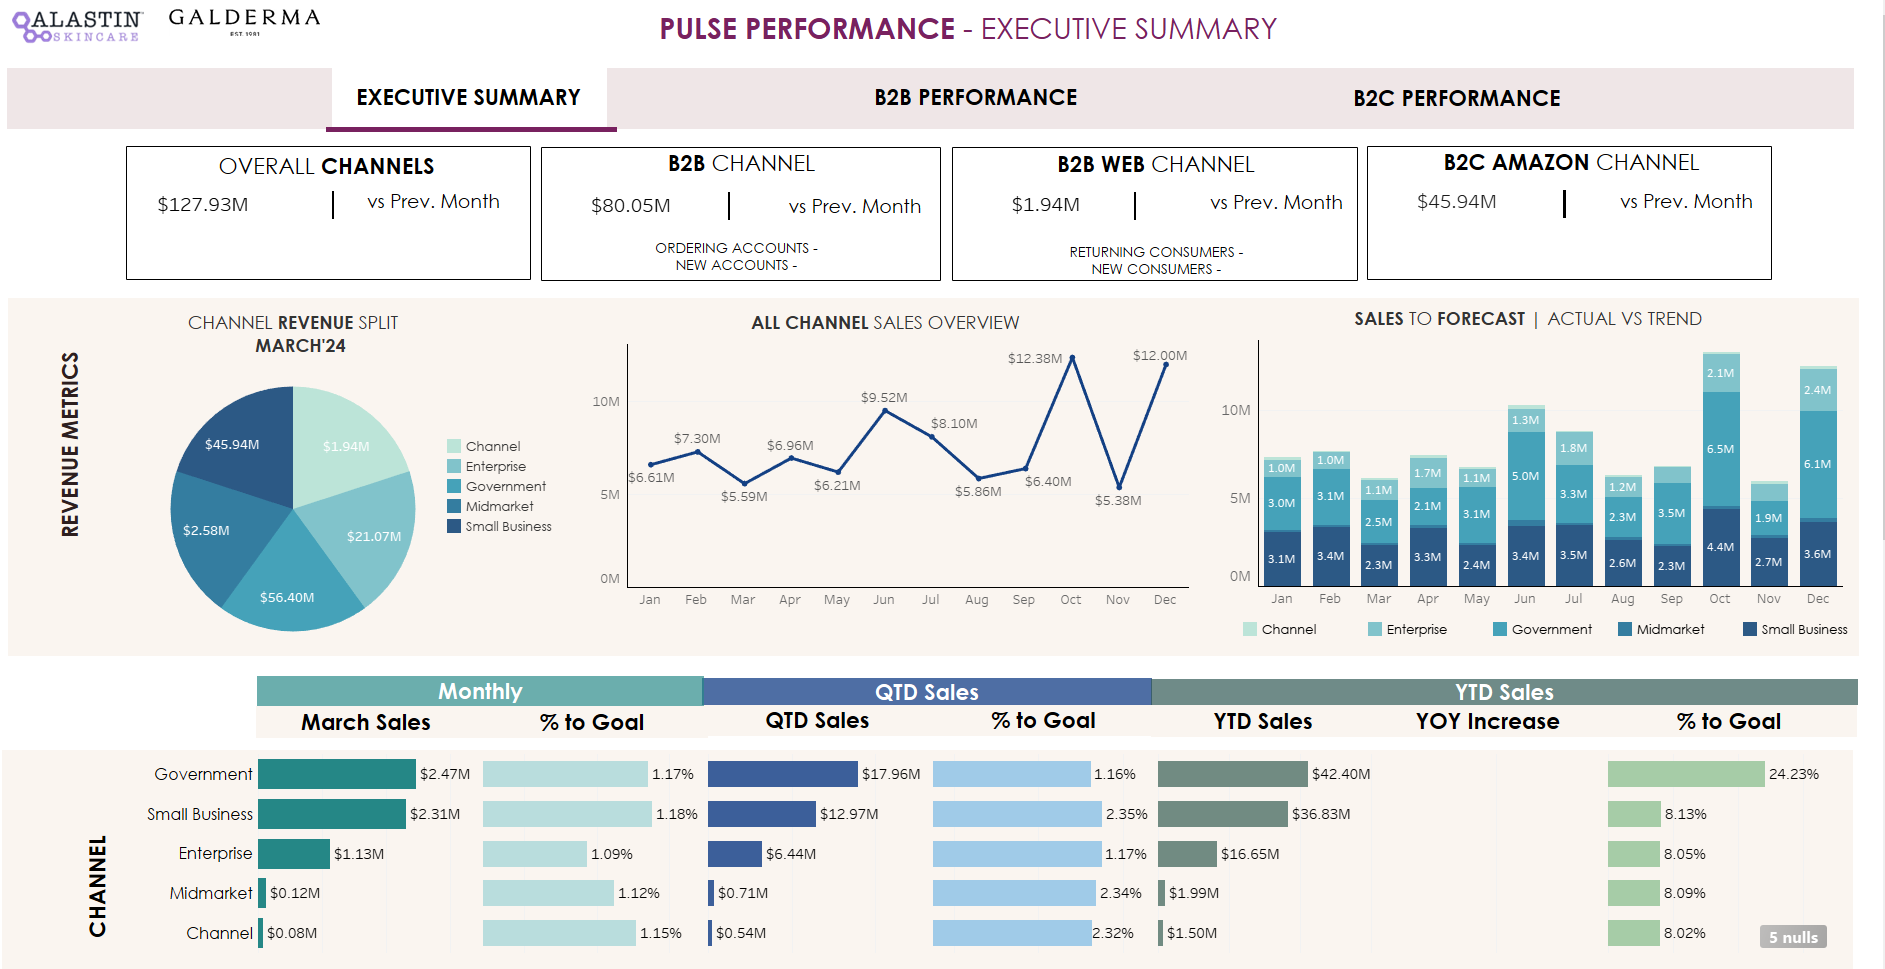

The dashboard page shown, as its layout file describes it:
{"tool":"tableau","page":{"name":"Executive summary ","canvas":[1850,2000],"ordinal":4},"visuals":[{"type":"text","box":[555,7,813,53]},{"type":"image","param":"Image/Alastin logo.png","box":[5,9,148,52]},{"type":"image","param":"Image/galderma logo.jpg","box":[162,14,151,53]},{"type":"dashboard-object","box":[325,72,275,60]},{"type":"blank","box":[0,73,1847,61]},{"type":"dashboard-object","box":[839,73,261,58]},{"type":"dashboard-object","box":[1331,73,245,59]},{"type":"blank","box":[319,132,291,5]},{"type":"blank","box":[119,151,405,134]},{"type":"blank","box":[1360,151,405,134]},{"type":"blank","box":[534,152,400,134]},{"type":"text","box":[546,152,377,31]},{"type":"blank","box":[945,152,406,134]},{"type":"text","box":[1395,153,339,28]},{"type":"text","box":[124,154,391,33]},{"type":"text","box":[954,154,390,30]},{"type":"worksheet","title":"B2C AMAZON CHANNEL","mark":"Automatic","box":[1343,175,214,62]},{"type":"worksheet","title":"OVERALL CHANNELS","mark":"Automatic","box":[103,181,186,55]},{"type":"text","box":[334,187,185,39]},{"type":"text","box":[1568,187,223,38]},{"type":"worksheet","title":"b2b channel","mark":"Automatic","box":[525,189,198,42]},{"type":"text","box":[1174,189,191,37]},{"type":"worksheet","title":"B2C WEB CHANNEL","mark":"Automatic","box":[911,190,256,38]},{"type":"blank","box":[1556,195,3,28]},{"type":"blank","box":[325,196,2,28]},{"type":"blank","box":[721,197,2,28]},{"type":"text","box":[751,197,194,28]},{"type":"blank","box":[1127,197,2,28]},{"type":"text","box":[628,236,203,51]},{"type":"text","box":[1021,244,257,44]},{"type":"text","box":[49,276,44,350]},{"type":"blank","box":[1,303,1851,358]},{"type":"worksheet","title":"SALES TO FORECAST | ACTUAL VS TREND","mark":"Bar","rows":["Gross Sales"],"cols":["Calculation_1133781227098951680"],"box":[1207,308,629,310]},{"type":"worksheet","title":"sales overview ","mark":"Line","rows":["Sales"],"cols":["Calculation_1133781227098951680"],"box":[580,312,602,303]},{"type":"legend","title":"revenue metrics","param":"[federated.1y4mrft0pfnlwe1bmkxz20d299ct].[none:Segment:nk]","box":[437,441,146,113]},{"type":"text","box":[246,677,455,38]},{"type":"text","box":[691,679,458,35]},{"type":"text","box":[1140,680,715,34]},{"type":"text","box":[694,709,233,32]},{"type":"text","box":[927,709,219,32]},{"type":"text","box":[1144,710,224,32]},{"type":"text","box":[1368,710,226,32]},{"type":"text","box":[1594,710,256,32]},{"type":"text","box":[249,711,220,32]},{"type":"text","box":[469,711,232,32]},{"type":"worksheet","title":"Channel bargraphs ","mark":"Automatic","rows":["Segment"],"cols":["Calculation_1090152607440564228","Calculation_1090152607438299138","Calculation_1090152607449702416","Calculation_1090152607448899599","Calculation_1090152607441715207","Calculation_1090152607442710540","Calculation_1090152607443222541"],"box":[111,755,1719,207]},{"type":"worksheet","title":"qtr overall % to goal ","mark":"Automatic","box":[1015.8,801,128.9,39]},{"type":"text","box":[28,836,124,113]},{"type":"worksheet","title":"Channel bargraphs (7)","mark":"Automatic","rows":["Product"],"cols":["Calculation_1090152607440564228","Calculation_1090152607438299138","Calculation_1090152607449702416","Calculation_1090152607448899599","Calculation_1090152607441715207","Calculation_1090152607442710540","Calculation_1090152607443222541"],"box":[112,972,1713,207]},{"type":"text","box":[29,1029,124,114]},{"type":"worksheet","title":"Channel bargraphs (8)","mark":"Automatic","rows":["Product"],"cols":["Calculation_1090152607440564228","Calculation_1090152607438299138","Calculation_1090152607449702416","Calculation_1090152607448899599","Calculation_1090152607441715207","Calculation_1090152607442710540","Calculation_1090152607443222541"],"box":[113,1183,1710,207]},{"type":"text","box":[24,1247,124,113]},{"type":"worksheet","title":"Channel bargraphs (9)","mark":"Automatic","rows":["Product"],"cols":["Calculation_1090152607440564228","Calculation_1090152607438299138","Calculation_1090152607449702416","Calculation_1090152607448899599","Calculation_1090152607441715207","Calculation_1090152607442710540","Calculation_1090152607443222541"],"box":[111,1395,1702,207]},{"type":"text","box":[23,1438,123,113]},{"type":"worksheet","title":"Channel bargraphs (5)","mark":"Automatic","rows":["Product"],"cols":["Calculation_1090152607440564228","Calculation_1090152607438299138","Calculation_1090152607449702416","Calculation_1090152607448899599","Calculation_1090152607441715207","Calculation_1090152607442710540","Calculation_1090152607443222541"],"box":[108,1617,1715,207]},{"type":"text","box":[22,1637,120,160]}]}

Visuals, with their boxes on the page's 1850x2000 design canvas (x1, y1, x2, y2). These are canvas units, not pixel positions in the 1885x969 screenshot, which may show the page scaled, cropped or inside an application window:
text: (555, 7, 1368, 60)
image: (5, 9, 153, 61)
image: (162, 14, 313, 67)
dashboard-object: (325, 72, 600, 132)
blank: (0, 73, 1847, 134)
dashboard-object: (839, 73, 1100, 131)
dashboard-object: (1331, 73, 1576, 132)
blank: (319, 132, 610, 137)
blank: (119, 151, 524, 285)
blank: (1360, 151, 1765, 285)
blank: (534, 152, 934, 286)
text: (546, 152, 923, 183)
blank: (945, 152, 1351, 286)
text: (1395, 153, 1734, 181)
text: (124, 154, 515, 187)
text: (954, 154, 1344, 184)
"B2C AMAZON CHANNEL" worksheet: (1343, 175, 1557, 237)
"OVERALL CHANNELS" worksheet: (103, 181, 289, 236)
text: (334, 187, 519, 226)
text: (1568, 187, 1791, 225)
"b2b channel" worksheet: (525, 189, 723, 231)
text: (1174, 189, 1365, 226)
"B2C WEB CHANNEL" worksheet: (911, 190, 1167, 228)
blank: (1556, 195, 1559, 223)
blank: (325, 196, 327, 224)
blank: (721, 197, 723, 225)
text: (751, 197, 945, 225)
blank: (1127, 197, 1129, 225)
text: (628, 236, 831, 287)
text: (1021, 244, 1278, 288)
text: (49, 276, 93, 626)
blank: (1, 303, 1852, 661)
"SALES TO FORECAST | ACTUAL VS TREND" worksheet (Bar marks): (1207, 308, 1836, 618)
"sales overview " worksheet (Line marks): (580, 312, 1182, 615)
"revenue metrics" legend: (437, 441, 583, 554)
text: (246, 677, 701, 715)
text: (691, 679, 1149, 714)
text: (1140, 680, 1855, 714)
text: (694, 709, 927, 741)
text: (927, 709, 1146, 741)
text: (1144, 710, 1368, 742)
text: (1368, 710, 1594, 742)
text: (1594, 710, 1850, 742)
text: (249, 711, 469, 743)
text: (469, 711, 701, 743)
"Channel bargraphs " worksheet: (111, 755, 1830, 962)
"qtr overall % to goal " worksheet: (1016, 801, 1145, 840)
text: (28, 836, 152, 949)
"Channel bargraphs (7)" worksheet: (112, 972, 1825, 1179)
text: (29, 1029, 153, 1143)
"Channel bargraphs (8)" worksheet: (113, 1183, 1823, 1390)
text: (24, 1247, 148, 1360)
"Channel bargraphs (9)" worksheet: (111, 1395, 1813, 1602)
text: (23, 1438, 146, 1551)
"Channel bargraphs (5)" worksheet: (108, 1617, 1823, 1824)
text: (22, 1637, 142, 1797)
